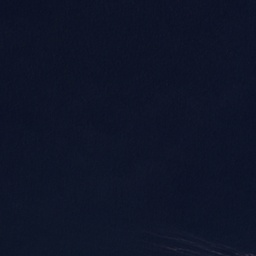Marine Debris: (199, 243, 228, 256), (222, 245, 256, 256)
